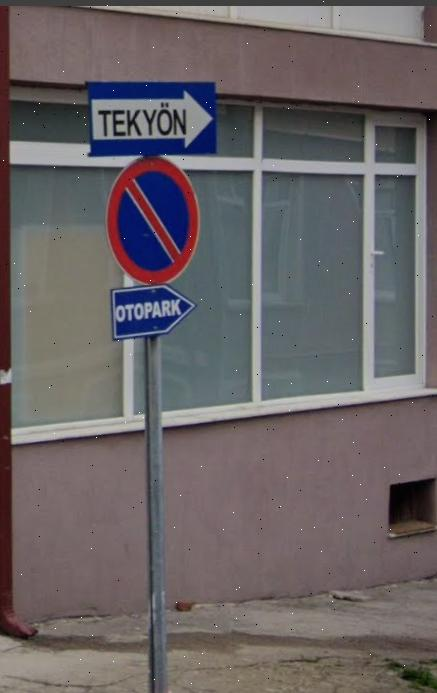nopark: (112, 152, 196, 282)
